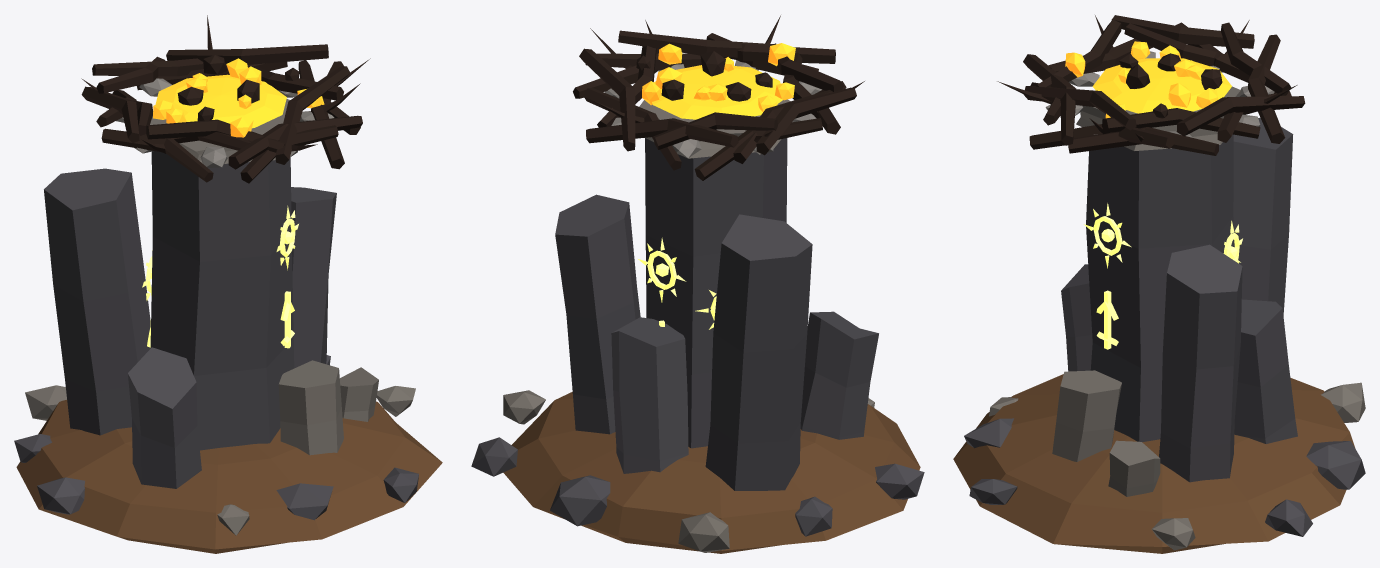
The model's file is Phoenix_Perch.fbx.
3 views of the same model, side by side, from view 1: azimuth 30°, elevation 25°; view 2: azimuth 150°, elevation 25°; view 3: azimuth 270°, elevation 25° (orthographic). The views are drawn at different scales.
Visible parts, largest first — view 1: Phoenix_Perch; view 2: Phoenix_Perch; view 3: Phoenix_Perch.
Boxes of the visible parts, x1,y1,x2,y2 form: Phoenix_Perch: [14, 15, 442, 553]; Phoenix_Perch: [471, 15, 924, 553]; Phoenix_Perch: [953, 15, 1365, 553].
Size of the model in its own units: 1.78 by 1.77 by 1.6.
